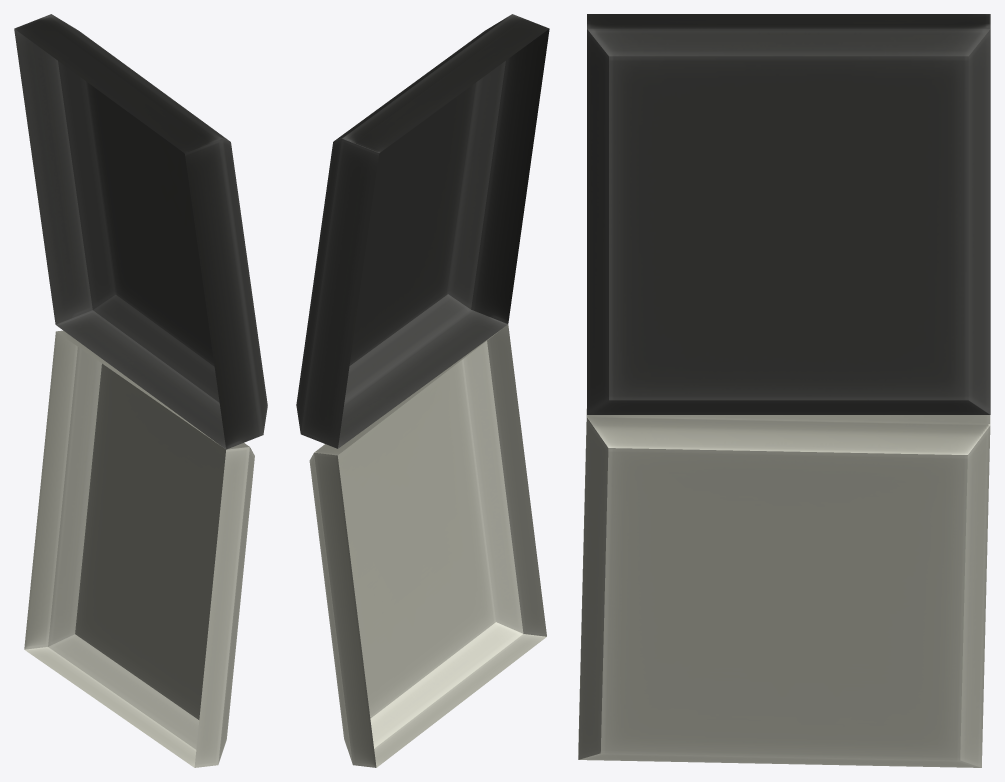
The model's file is Tile_Mosaic_Terr_Left_Final_001.fbx.
3 views of the same model, side by side, from view 1: azimuth 30°, elevation 25°; view 2: azimuth 150°, elevation 25°; view 3: azimuth 270°, elevation 25° (orthographic). The views are drawn at different scales.
Visible parts, largest first — view 1: Tile_Mosaic_Terr_Left_003; view 2: Tile_Mosaic_Terr_Left_003; view 3: Tile_Mosaic_Terr_Left_003.
Boxes of the visible parts, x1=… form: Tile_Mosaic_Terr_Left_003: x1=14, y1=14, x2=267, y2=767; Tile_Mosaic_Terr_Left_003: x1=296, y1=14, x2=549, y2=767; Tile_Mosaic_Terr_Left_003: x1=578, y1=14, x2=990, y2=767.
Bounding box in the file's own units: 7.81 × 50.79 × 25.54.
